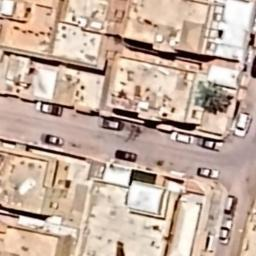SUV: (234, 108, 254, 140), (222, 194, 237, 218)
pickup: (32, 100, 66, 118)
sedan: (96, 116, 126, 132), (217, 218, 233, 246), (168, 131, 196, 146), (113, 148, 138, 164), (38, 131, 64, 146), (194, 164, 220, 179), (198, 136, 222, 152)
